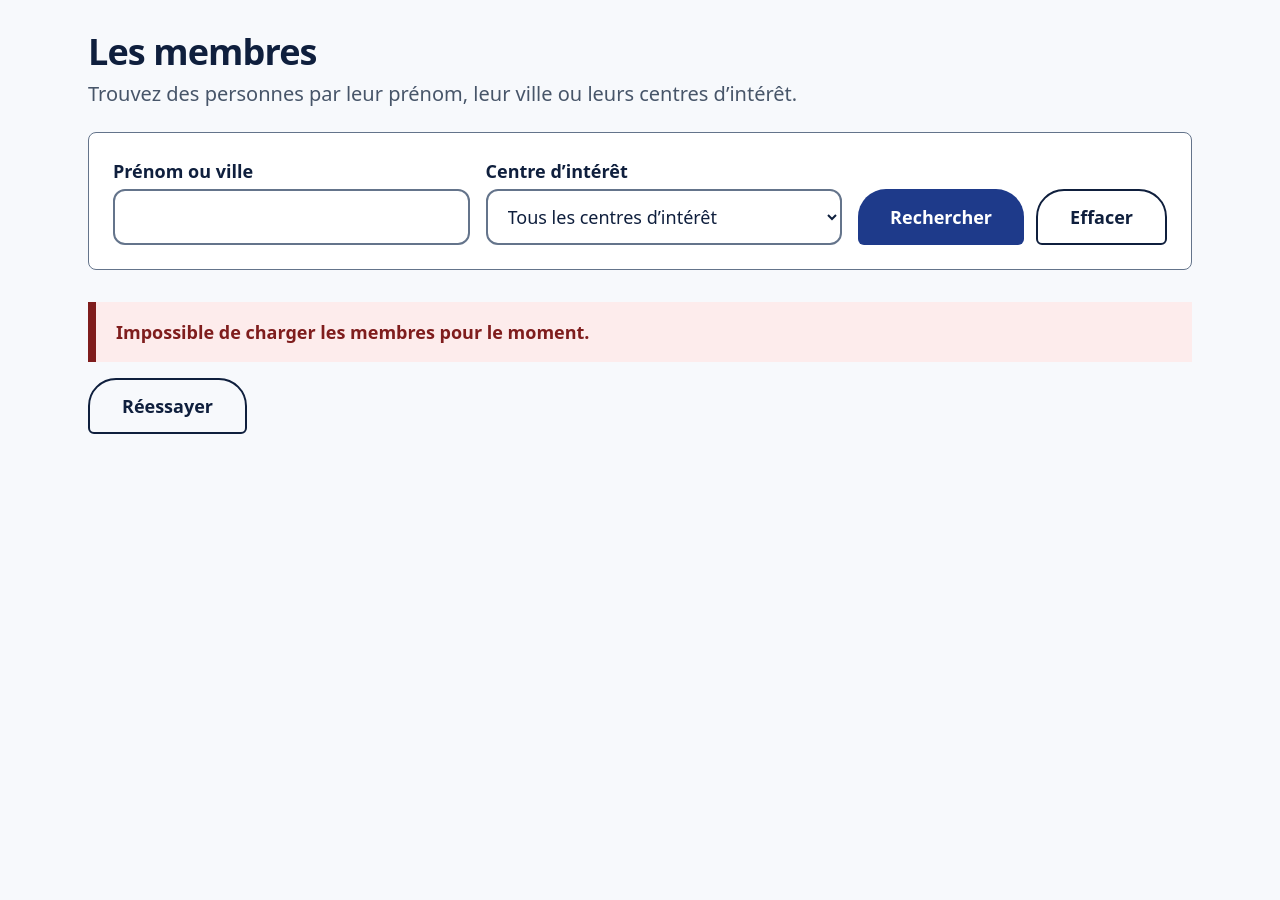
Scenario: MembersView › propose de réessayer en cas d'erreur
Expected: the message "Impossible de charger les membres pour le moment." is shown, [88,302,1192,362]
Click the button "Réessayer" at point(168, 406), box [88,378,247,434]
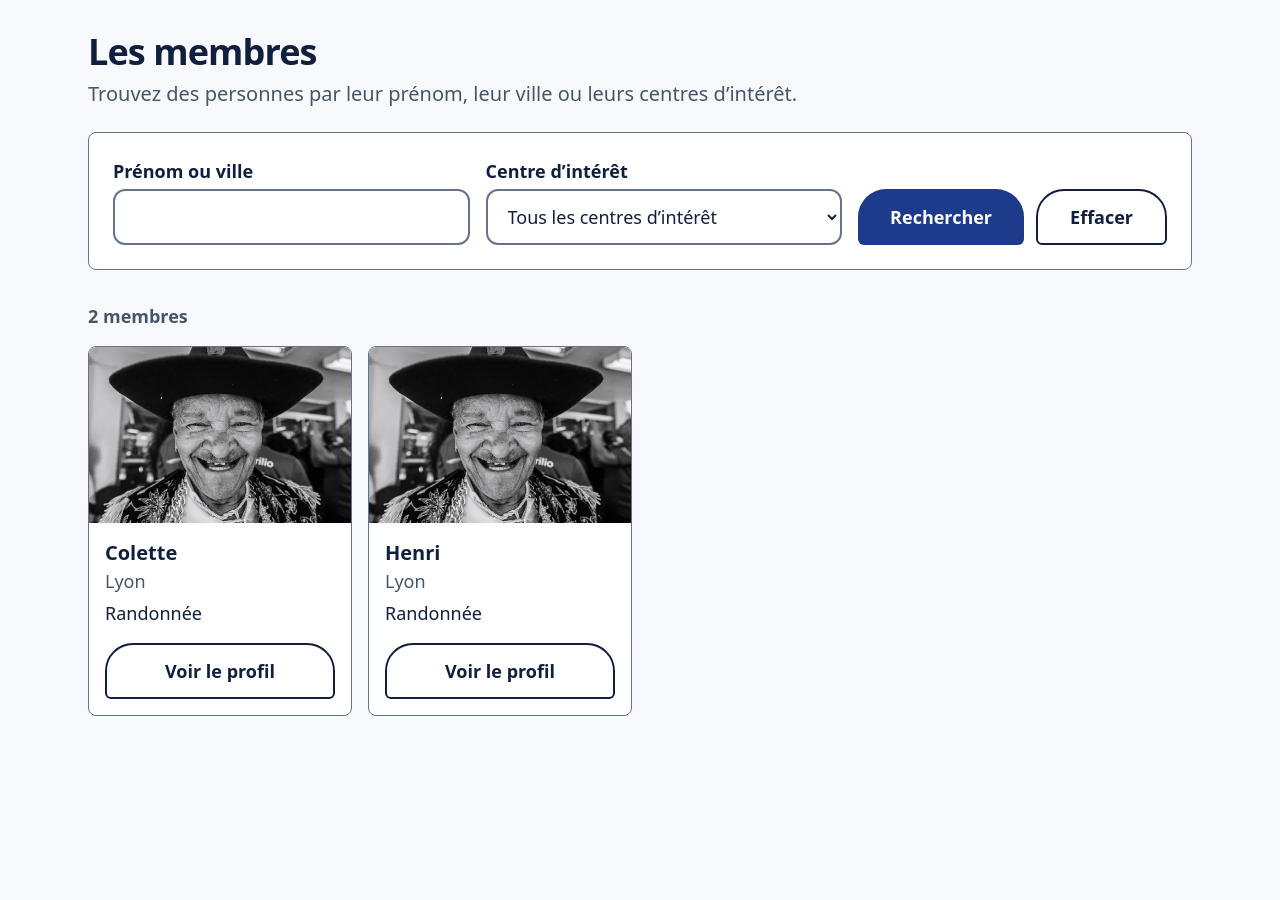
Now the text "Henri" is shown, box [385,539,440,566]
